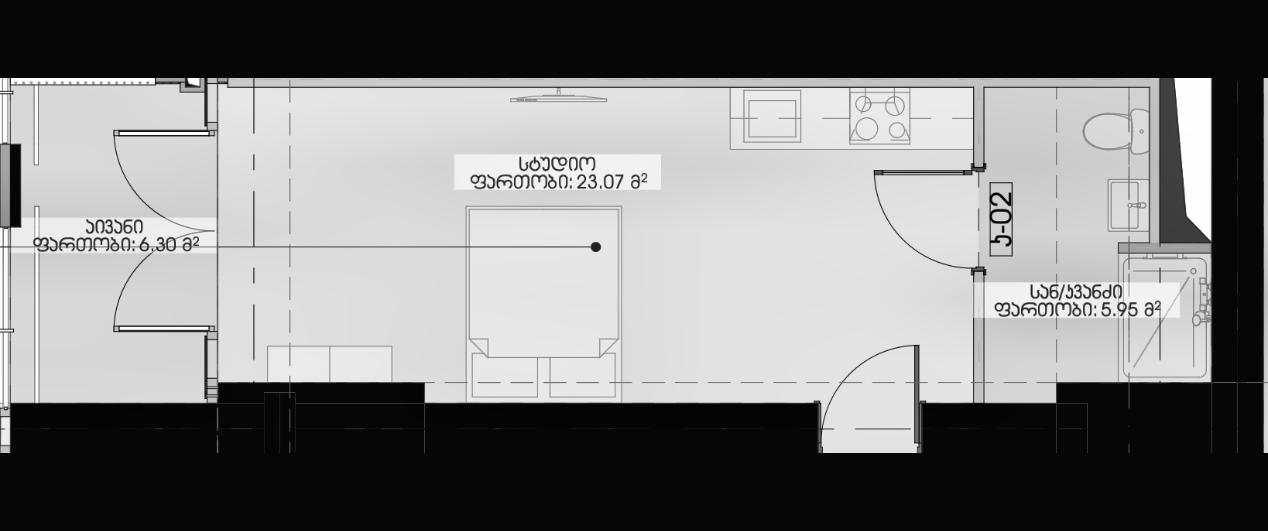door: (814, 335, 925, 466), (865, 163, 994, 275), (106, 123, 231, 233), (106, 234, 232, 336)
